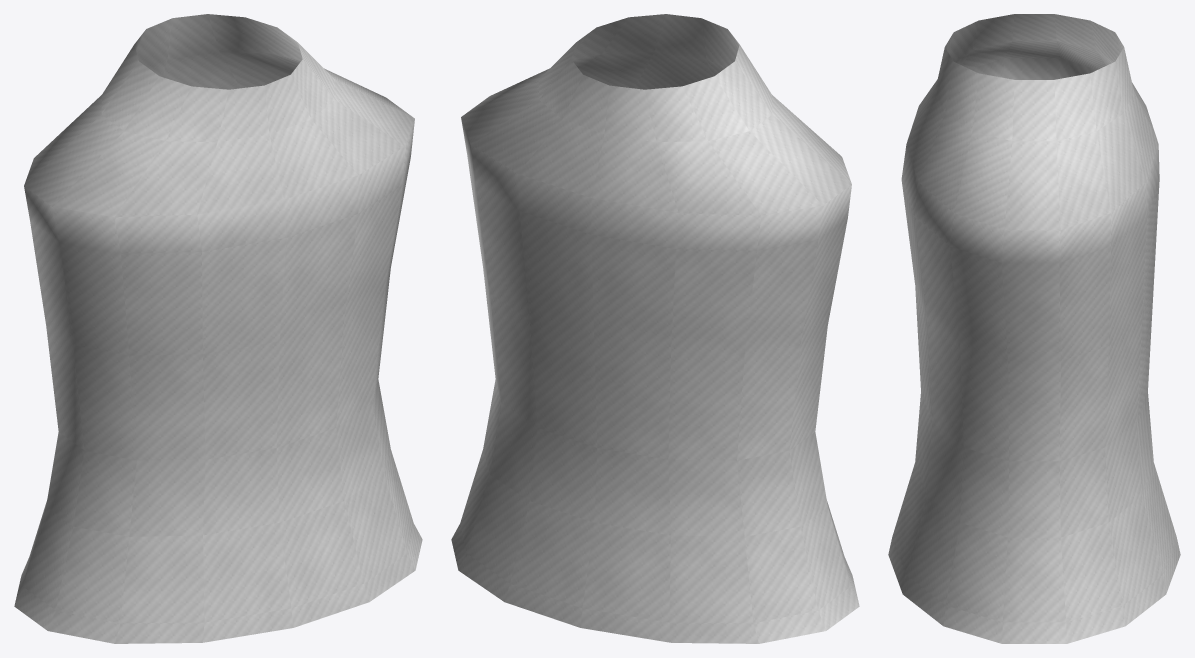
Rendered from shirt_tank_torso_m.glb.
The picture shows the model from 3 angles, left to right: view 1: azimuth 30°, elevation 25°; view 2: azimuth 150°, elevation 25°; view 3: azimuth 270°, elevation 25°; orthographic projection. The views are drawn at different scales.
Visible parts, largest first — view 1: shirt_tank_torso_m; view 2: shirt_tank_torso_m; view 3: shirt_tank_torso_m.
Boxes of the visible parts, x1=… form: shirt_tank_torso_m: x1=14, y1=14, x2=422, y2=643; shirt_tank_torso_m: x1=451, y1=14, x2=859, y2=643; shirt_tank_torso_m: x1=888, y1=14, x2=1180, y2=643.
Size of the model in its own units: 0.4329 by 0.575 by 0.3.
Materials: 1 (1 with a texture image).
